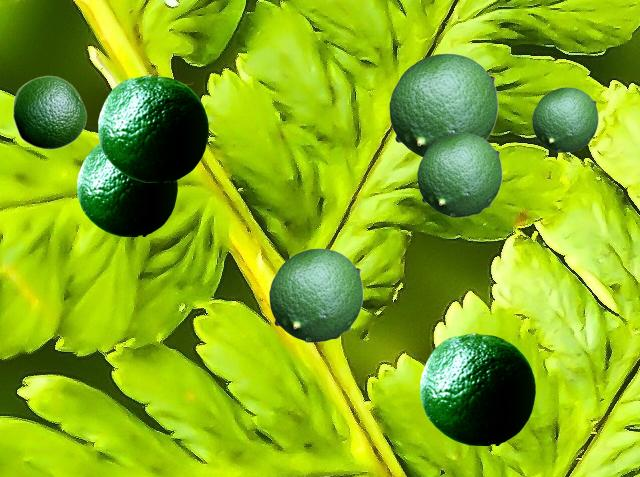calamansi: (420, 332, 534, 444), (98, 74, 207, 181), (389, 53, 497, 157), (77, 144, 176, 235), (269, 248, 362, 341), (417, 133, 501, 216), (12, 75, 86, 149), (532, 87, 597, 151)
